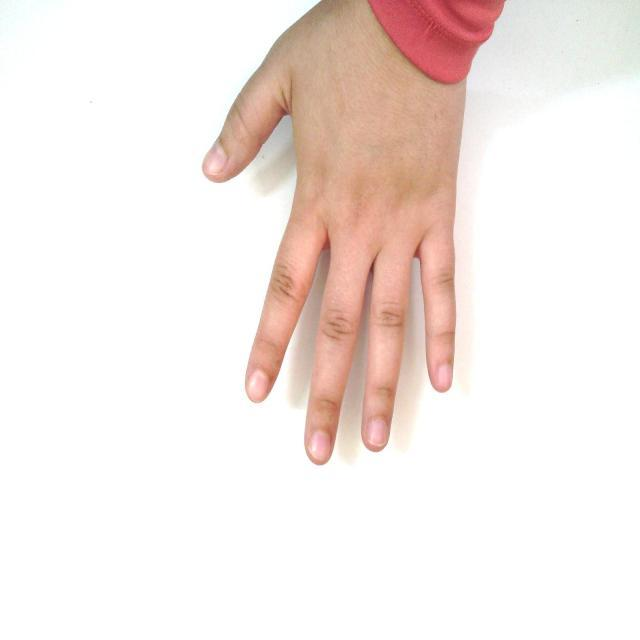Fingernail: (205, 145, 225, 172), (249, 372, 268, 399), (367, 419, 386, 445), (310, 432, 329, 457), (436, 364, 451, 386)
